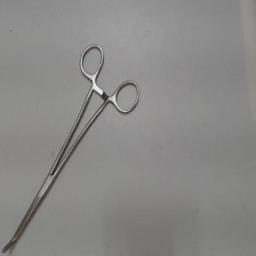Lahey Forceps: (0, 39, 146, 253)
